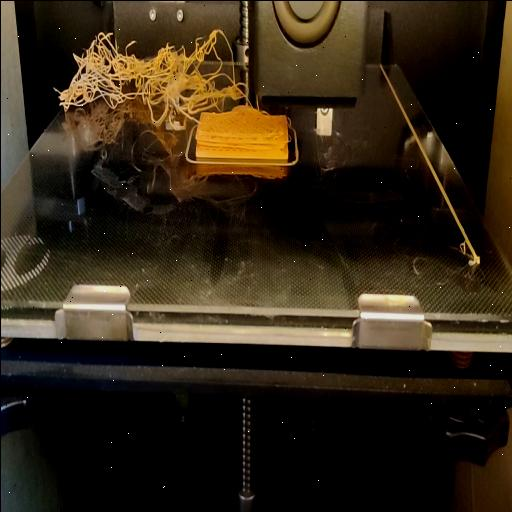spaghetti: (54, 22, 248, 126)
